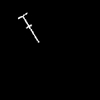double_crochet: (18, 13, 38, 41)
